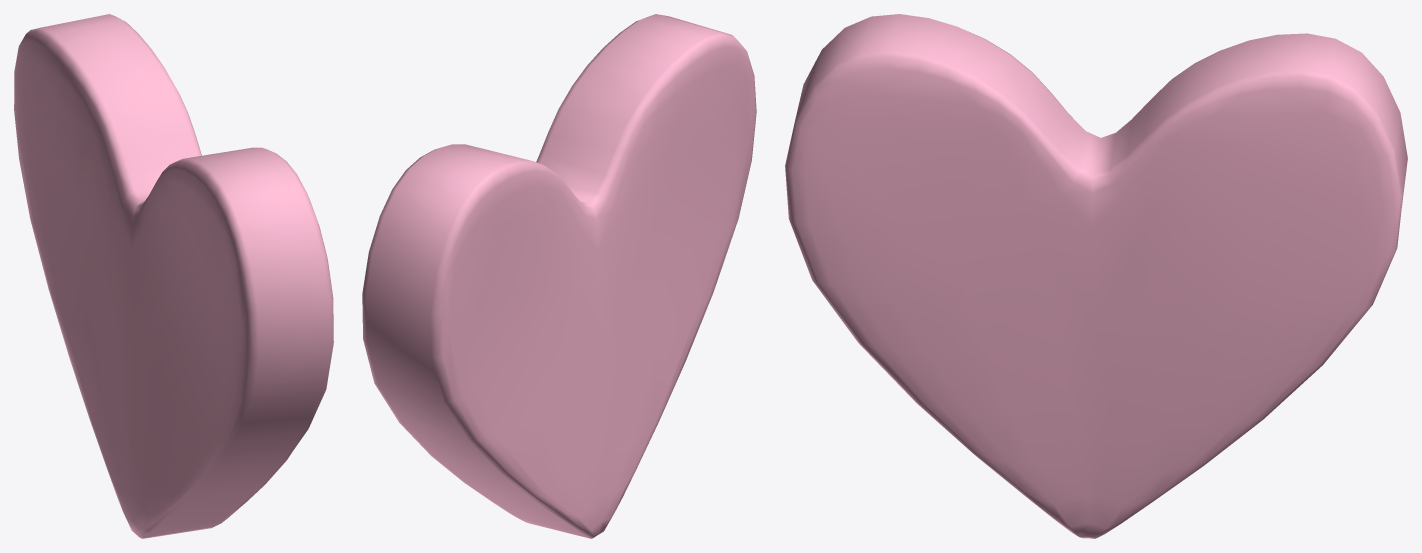
3 renders of one model, left to right at view 1: azimuth 30°, elevation 25°; view 2: azimuth 150°, elevation 25°; view 3: azimuth 270°, elevation 25°, orthographic. The views are drawn at different scales.
Parts seen in each view (by area): view 1: s.0533; view 2: s.0533; view 3: s.0533.
Boxes of the visible parts, box(x1,y1,x2,y2) form: s.0533: box(14, 14, 333, 538); s.0533: box(362, 14, 756, 538); s.0533: box(785, 14, 1407, 538).
Bounding box in the file's own units: 10.21 × 34.07 × 40.11.
